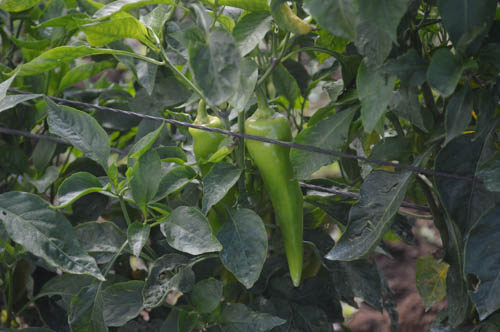ChiliPepper: (245, 116, 307, 287), (189, 122, 232, 222)
